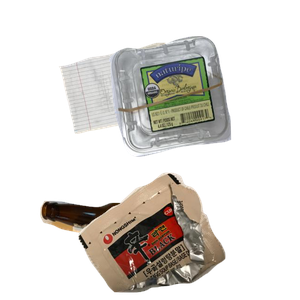glass: (37, 198, 236, 300)
paper: (56, 40, 229, 166)
plastic: (106, 34, 300, 183)
trash: (76, 170, 300, 300)
